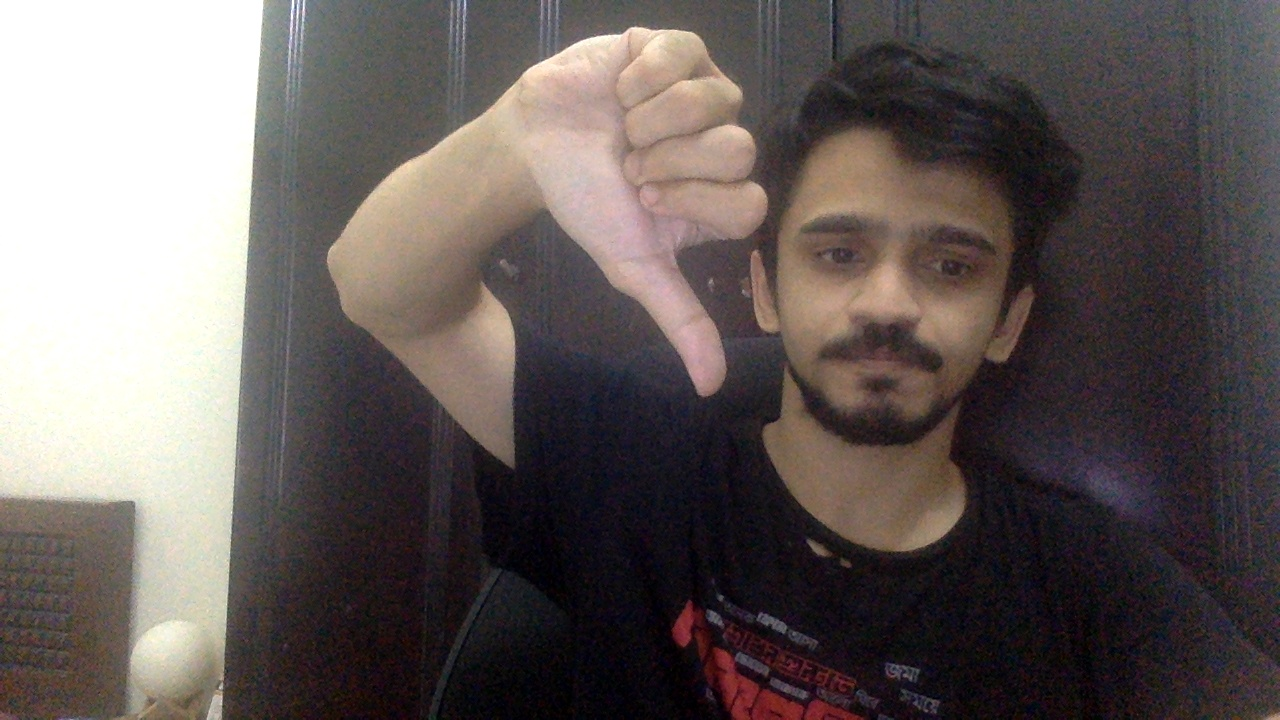bad: (507, 26, 769, 395)
